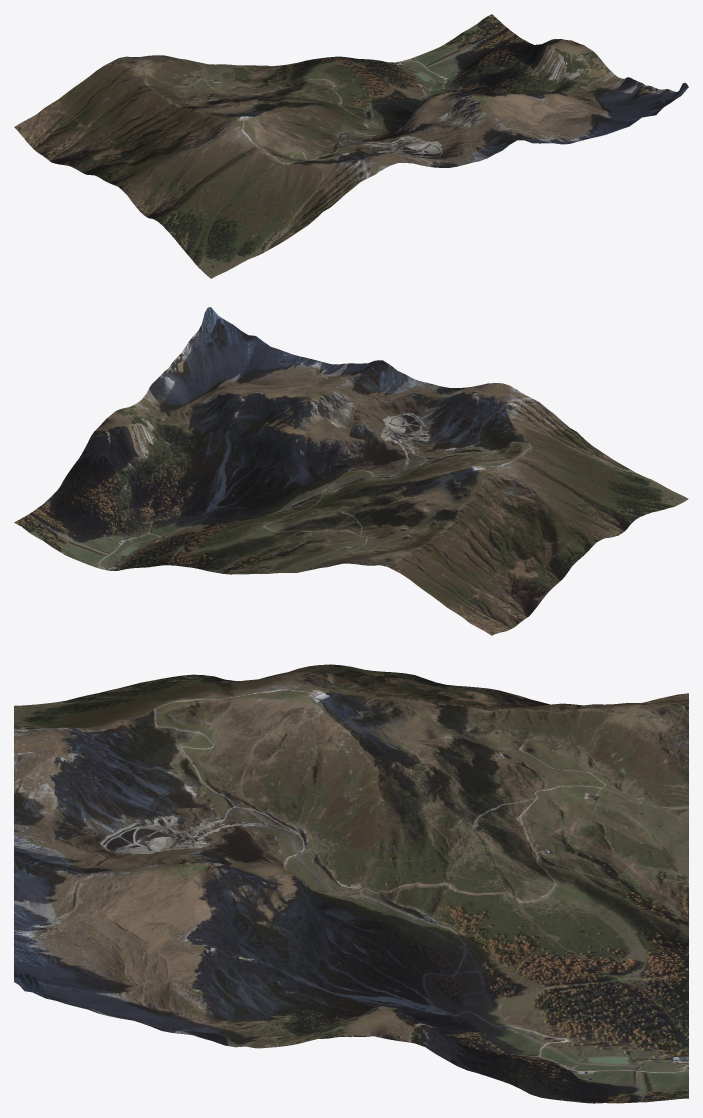
The model's file is terrain_Mountains_close.fbx.
The picture shows the model from 3 angles, top to bottom: view 1: azimuth 30°, elevation 25°; view 2: azimuth 150°, elevation 25°; view 3: azimuth 270°, elevation 25°; orthographic projection. The views are drawn at different scales.
Parts seen in each view (by area): view 1: EXPORT_GOOGLE_SAT_WM; view 2: EXPORT_GOOGLE_SAT_WM; view 3: EXPORT_GOOGLE_SAT_WM.
Part boxes in pixels (<box>): EXPORT_GOOGLE_SAT_WM: <box>14,14,688,278</box>; EXPORT_GOOGLE_SAT_WM: <box>14,307,688,635</box>; EXPORT_GOOGLE_SAT_WM: <box>14,664,688,1103</box>.
Bounding box in the file's own units: 428047 × 84337 × 305748.
